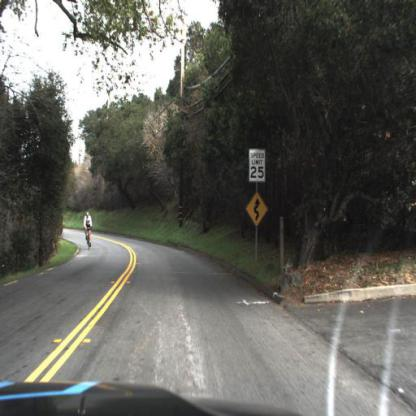biker: (83, 211, 96, 250)
